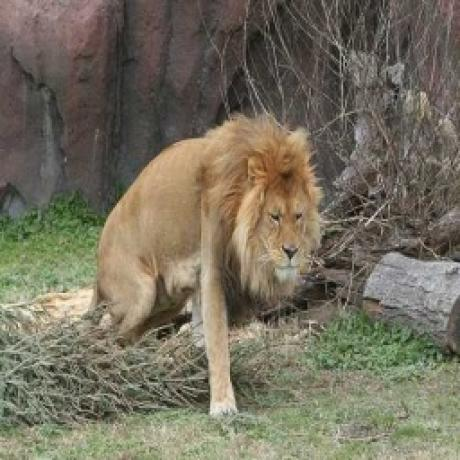Lion: (87, 100, 335, 414)
